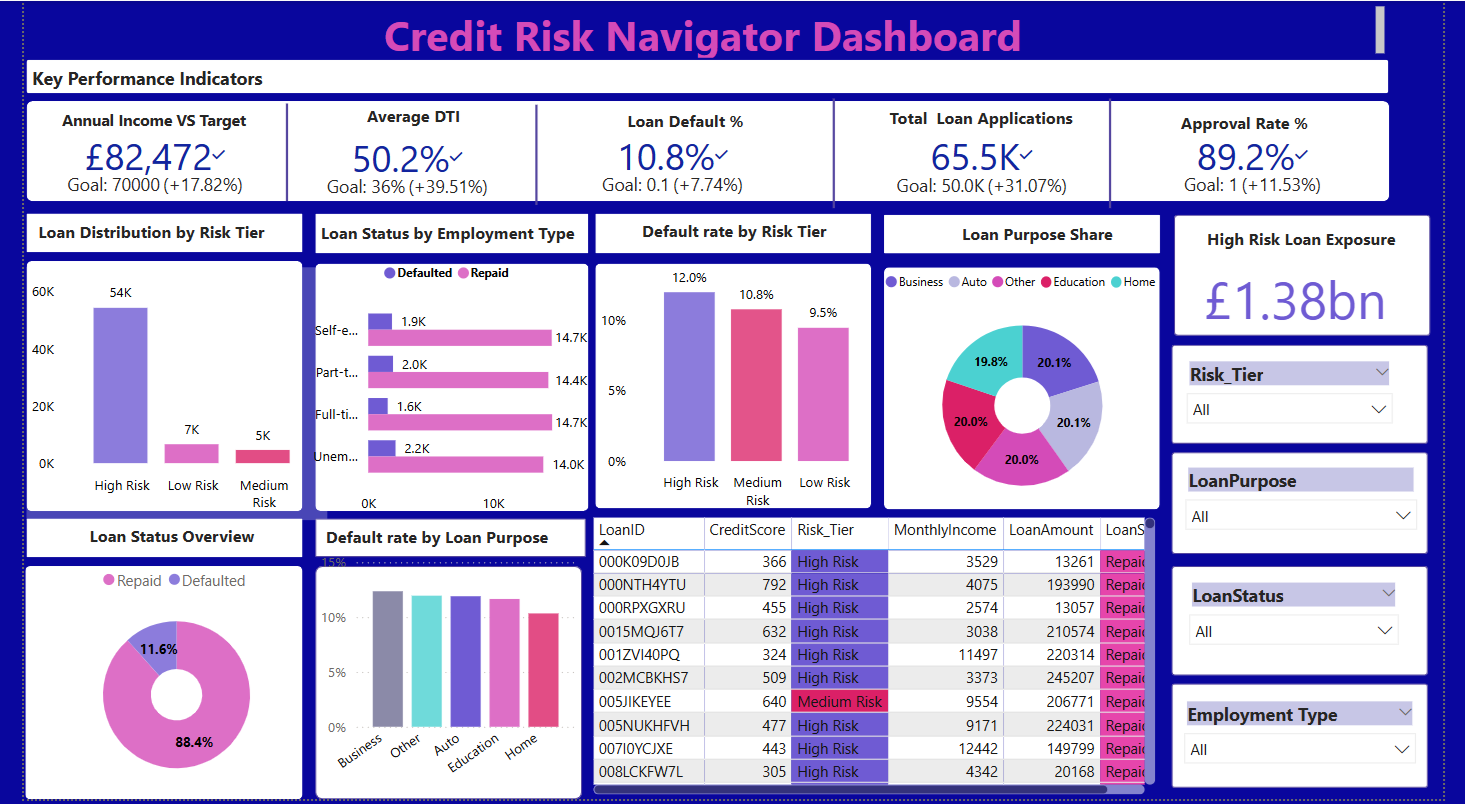

This screenshot's page, from the dashboard's own definition file:
{"tool":"powerbi","page":{"name":"Page 2","canvas":[1280,720],"ordinal":1},"visuals":[{"type":"shape","box":[0,12.5,1227.5,81.2],"z":0},{"type":"shape","box":[2.3,53.5,1227.9,30.2],"z":1000},{"type":"shape","box":[2.3,90.7,1229.1,90.7],"z":2000},{"type":"shape","box":[2.3,234.9,248.8,225.6],"z":3000},{"type":"shape","box":[1.2,509.3,250,210.5],"z":4000},{"type":"shape","box":[262.8,237.2,246.5,223.3],"z":5000},{"type":"shape","box":[775.6,239.5,248.8,218.6],"z":6000},{"type":"shape","box":[515.1,237.2,248.8,220.9],"z":7000},{"type":"shape","box":[515.1,191.9,248.8,36],"z":8000},{"type":"shape","box":[2.3,191.9,248.8,34.9],"z":9000},{"type":"shape","box":[262.8,191.9,246.5,36],"z":10000},{"type":"shape","box":[775.6,193,248.8,34.9],"z":11000},{"type":"shape","box":[2.3,466.3,248.8,34.9],"z":12000},{"type":"textbox","box":[1.2,0,1230.2,55.8],"z":13000},{"type":"textbox","box":[2.3,53.5,268.6,37.2],"z":14000},{"type":"kpi","fields":{"TrendLine":["CLEANED_FILE.LoanTerm"],"Goal":["CLEANED_FILE.Target_Income"],"Indicator":["Sum(KPI Metrics.Avg_Income)"]},"box":[17.4,118.6,202.3,60.5],"z":15000},{"type":"textbox","box":[29.1,91.9,190.7,37.2],"z":16000},{"type":"shape","box":[137.2,91.9,198.8,88.4],"z":17000},{"type":"kpi","fields":{"Indicator":["Avg(KPI Metrics.Avg_DTI)"],"Goal":["CLEANED_FILE.Target_DTI"],"TrendLine":["CLEANED_FILE.Risk_Tier"]},"box":[251.2,111.6,188.4,77.9],"z":18000},{"type":"kpi","fields":{"Goal":["CLEANED_FILE.Target_default_rate"],"TrendLine":["CLEANED_FILE.Risk_Tier"],"Indicator":["CLEANED_FILE.Default_Rate_percentage"]},"box":[483.7,118.6,202.3,60.5],"z":19000},{"type":"kpi","fields":{"Indicator":["Sum(KPI Metrics.Total_Loans)"],"TrendLine":["CLEANED_FILE.LoanTerm"],"Goal":["CLEANED_FILE.Targeted_loans"]},"box":[748.8,111.6,230.2,75.6],"z":20000},{"type":"kpi","fields":{"TrendLine":["CLEANED_FILE.Risk_Tier"],"Goal":["CLEANED_FILE.Target_Approval_rate"],"Indicator":["CLEANED_FILE.Approval_rate_percentage"]},"box":[1007,118.6,202.3,60.5],"z":21000},{"type":"shape","box":[358.1,93,207,90.7],"z":22000},{"type":"textbox","box":[304.7,88.4,268.6,37.2],"z":23000},{"type":"textbox","box":[461.6,91.9,268.6,37.2],"z":24000},{"type":"shape","box":[626.7,88.4,207,98.8],"z":25000},{"type":"shape","box":[875.6,88.4,207,98.8],"z":26000},{"type":"textbox","box":[775.6,90.7,224.4,34.9],"z":27000},{"type":"textbox","box":[1038.4,94.2,139.5,36],"z":28000},{"type":"clusteredColumnChart","fields":{"Category":["CLEANED_FILE.Risk_Tier"],"Y":["CountNonNull(CLEANED_FILE.LoanID)"]},"box":[2.3,239.5,270.9,227.9],"z":29000},{"type":"textbox","box":[8.1,193,238.4,34.9],"z":30000},{"type":"clusteredColumnChart","fields":{"Category":["CLEANED_FILE.Risk_Tier"],"Y":["CLEANED_FILE.Default_rate_by_Risk_tier"]},"box":[515.1,227.9,260.5,238.4],"z":31000},{"type":"textbox","box":[552.3,191.9,186,34.9],"z":32000},{"type":"clusteredBarChart","fields":{"Category":["CLEANED_FILE.Employment Type"],"Y":["CountNonNull(CLEANED_FILE.LoanID)"],"Series":["CLEANED_FILE.LoanStatus"]},"box":[243,226.7,279.1,244.2],"z":33000},{"type":"textbox","box":[262.8,194.2,265.1,43],"z":34000},{"type":"donutChart","fields":{"Category":["CLEANED_FILE.LoanStatus"],"Y":["CountNonNull(CLEANED_FILE.LoanID)"]},"box":[0,501.2,275.6,218.6],"z":35000},{"type":"textbox","box":[54.7,466.3,182.6,32.6],"z":36000},{"type":"donutChart","fields":{"Category":["CLEANED_FILE.LoanPurpose"],"Y":["Sum(CLEANED_FILE.LoanAmount)"]},"box":[753.5,234.9,293,233.7],"z":37000},{"type":"tableEx","fields":{"Values":["CLEANED_FILE.LoanID","CLEANED_FILE.CreditScore","CLEANED_FILE.Risk_Tier","CLEANED_FILE.MonthlyIncome","CLEANED_FILE.LoanAmount","CLEANED_FILE.LoanStatus"]},"box":[507,460.5,517.4,259.3],"z":38000},{"type":"textbox","box":[840.7,195.3,159.3,40.7],"z":40000},{"type":"shape","box":[1037.2,193,231.4,109.3],"z":41000},{"type":"shape","box":[1034.9,407,231.4,91.9],"z":42000},{"type":"shape","box":[262.8,466.3,244.2,34.9],"z":43000},{"type":"shape","box":[262.8,509.3,240.7,210.5],"z":44000},{"type":"kpi","fields":{"Indicator":["CLEANED_FILE.High_Risk_Loan_Exposure"],"TrendLine":["CLEANED_FILE.LoanPurpose"]},"box":[1024.4,209.3,243,115.1],"z":45000},{"type":"textbox","box":[1061.6,200,204.7,48.8],"z":47000},{"type":"clusteredColumnChart","fields":{"Category":["CLEANED_FILE.LoanPurpose"],"Y":["CLEANED_FILE.Default Rate (%)"]},"box":[262.8,482.6,239.5,237.2],"z":48000},{"type":"textbox","box":[267.4,467.4,230.2,34.9],"z":49000},{"type":"shape","box":[1034.9,310.5,231.4,89.5],"z":50000},{"type":"shape","box":[1034.9,509.3,231.4,98.8],"z":51000},{"type":"slicer","fields":{"Values":["CLEANED_FILE.Risk_Tier"]},"box":[1038.4,319.8,205.8,65.1],"z":52000},{"type":"shape","box":[1034.9,615.1,231.4,94.2],"z":53000},{"type":"slicer","fields":{"Values":["CLEANED_FILE.LoanPurpose"]},"box":[1037.2,416.3,229.1,74.4],"z":54000},{"type":"slicer","fields":{"Values":["CLEANED_FILE.LoanStatus"]},"box":[1040.7,519.8,209.3,81.4],"z":55000},{"type":"slicer","fields":{"Values":["CLEANED_FILE.Employment Type"]},"box":[1036,626.7,229.1,70.9],"z":56000}]}

Visuals, with their boxes in screenshot pixels (x1, y1, x2, y2), scaled from the page's 1280x720 canvas onto the 1465x804 screenshot:
shape: [0,14,1405,105]
shape: [3,60,1408,93]
shape: [3,101,1409,203]
shape: [3,262,287,514]
shape: [1,569,288,803]
shape: [301,265,583,514]
shape: [888,267,1172,512]
shape: [590,265,874,512]
shape: [590,214,874,254]
shape: [3,214,287,253]
shape: [301,214,583,254]
shape: [888,216,1172,254]
shape: [3,521,287,560]
textbox: [1,0,1409,62]
textbox: [3,60,310,101]
kpi - CLEANED_FILE.LoanTerm x CLEANED_FILE.Target_Income: [20,132,251,200]
textbox: [33,103,252,144]
shape: [157,103,385,201]
kpi - Avg(KPI Metrics.Avg_DTI) x CLEANED_FILE.Target_DTI: [288,125,503,212]
kpi - CLEANED_FILE.Target_default_rate x CLEANED_FILE.Risk_Tier: [554,132,785,200]
kpi - Sum(KPI Metrics.Total_Loans) x CLEANED_FILE.LoanTerm: [857,125,1120,209]
kpi - CLEANED_FILE.Risk_Tier x CLEANED_FILE.Target_Approval_rate: [1153,132,1384,200]
shape: [410,104,647,205]
textbox: [349,99,656,140]
textbox: [528,103,836,144]
shape: [717,99,954,209]
shape: [1002,99,1239,209]
textbox: [888,101,1145,140]
textbox: [1188,105,1348,145]
clusteredColumnChart - CLEANED_FILE.Risk_Tier x CountNonNull(CLEANED_FILE.LoanID): [3,267,313,522]
textbox: [9,216,282,254]
clusteredColumnChart - CLEANED_FILE.Risk_Tier x CLEANED_FILE.Default_rate_by_Risk_tier: [590,254,888,521]
textbox: [632,214,845,253]
clusteredBarChart - CLEANED_FILE.Employment Type x CountNonNull(CLEANED_FILE.LoanID): [278,253,598,526]
textbox: [301,217,604,265]
donutChart - CLEANED_FILE.LoanStatus x CountNonNull(CLEANED_FILE.LoanID): [0,560,315,803]
textbox: [63,521,272,557]
donutChart - CLEANED_FILE.LoanPurpose x Sum(CLEANED_FILE.LoanAmount): [862,262,1198,523]
tableEx - CLEANED_FILE.LoanID x CLEANED_FILE.CreditScore: [580,514,1172,803]
textbox: [962,218,1145,264]
shape: [1187,216,1452,338]
shape: [1184,454,1449,557]
shape: [301,521,580,560]
shape: [301,569,576,803]
kpi - CLEANED_FILE.High_Risk_Loan_Exposure x CLEANED_FILE.LoanPurpose: [1172,234,1451,362]
textbox: [1215,223,1449,278]
clusteredColumnChart - CLEANED_FILE.LoanPurpose x CLEANED_FILE.Default Rate (%): [301,539,575,803]
textbox: [306,522,570,561]
shape: [1184,347,1449,447]
shape: [1184,569,1449,679]
slicer - CLEANED_FILE.Risk_Tier: [1188,357,1424,430]
shape: [1184,687,1449,792]
slicer - CLEANED_FILE.LoanPurpose: [1187,465,1449,548]
slicer - CLEANED_FILE.LoanStatus: [1191,580,1431,671]
slicer - CLEANED_FILE.Employment Type: [1186,700,1448,779]
